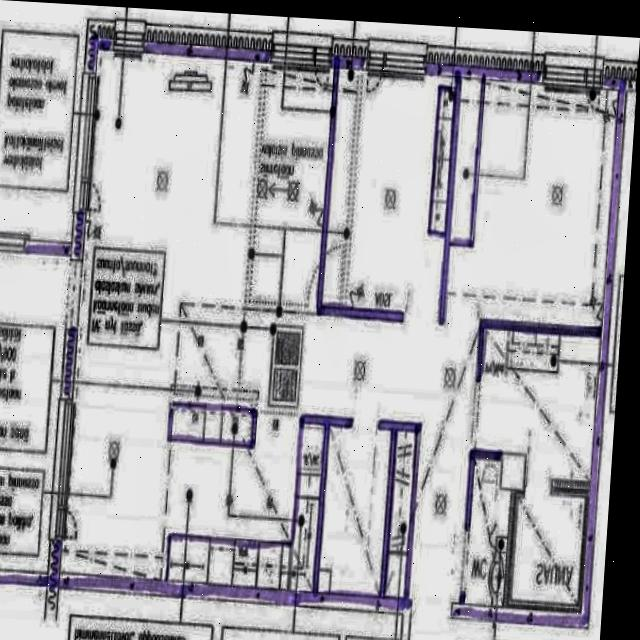room: (445, 80, 618, 327), (322, 70, 455, 314), (0, 252, 71, 573), (475, 328, 601, 481), (318, 426, 392, 595), (511, 493, 585, 604), (465, 459, 512, 606)
